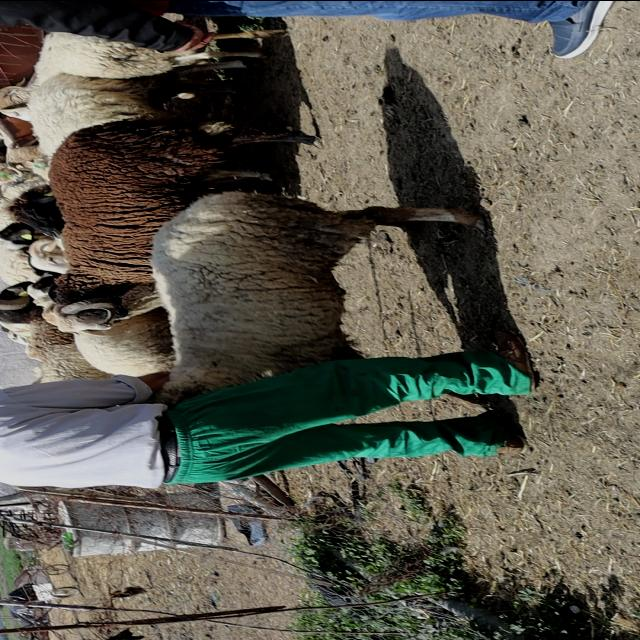Score_5: (151, 190, 484, 404)
